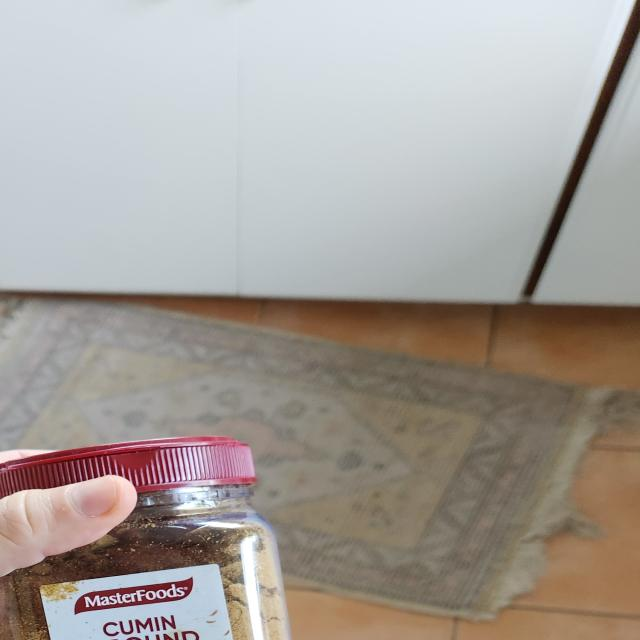cumin: (0, 432, 310, 640)
